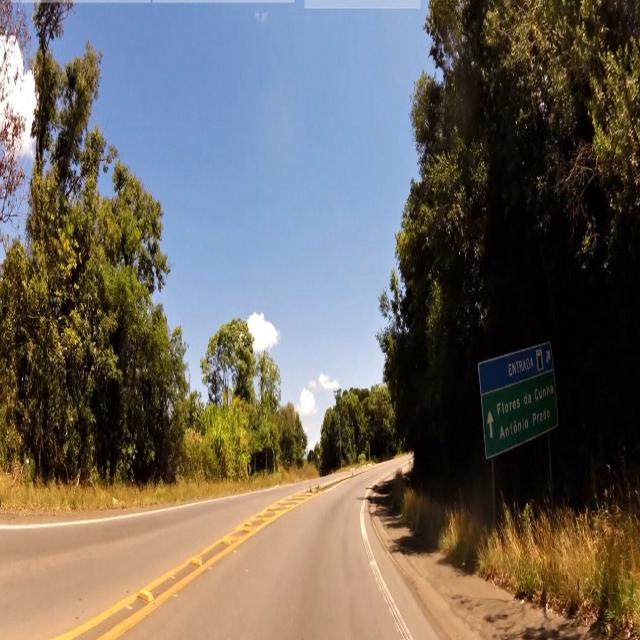I-4: (483, 370, 558, 457)
LOC-6: (481, 343, 553, 393)
